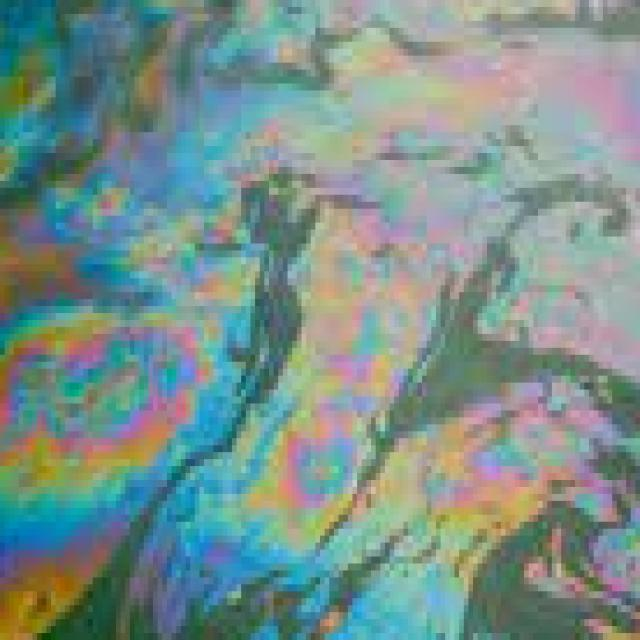-: (32, 0, 639, 563), (0, 0, 640, 494), (0, 0, 422, 640), (0, 383, 640, 619), (459, 0, 640, 640), (0, 418, 640, 584)
